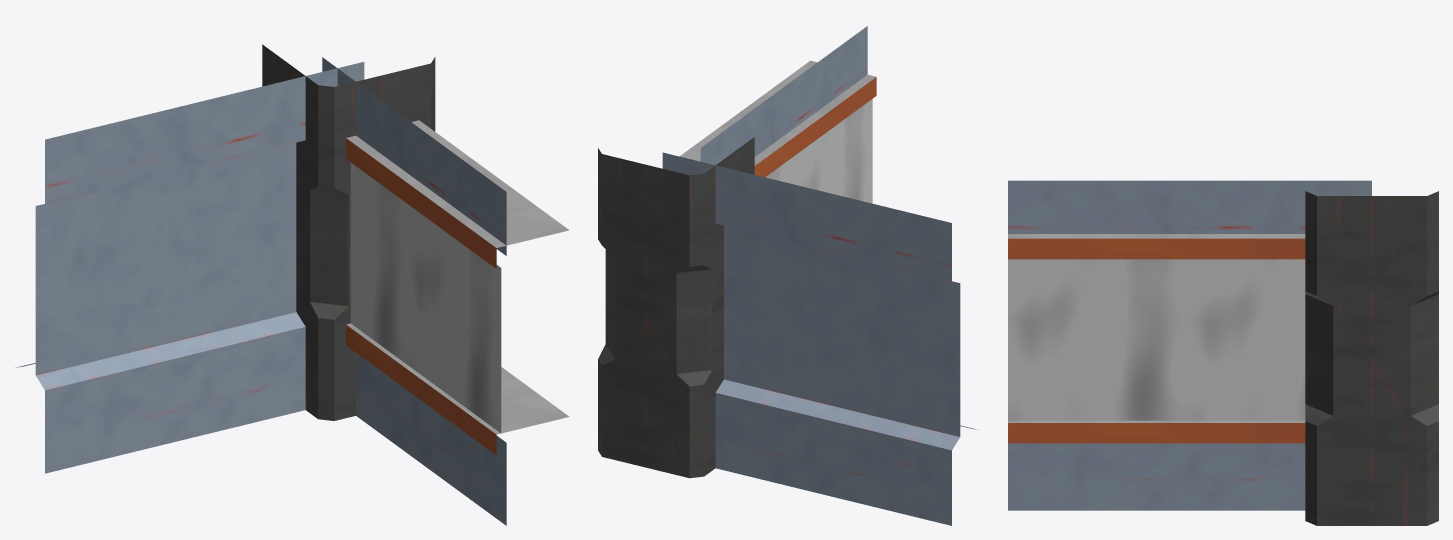
File: Wall_WindowCorner_2_A_F.glb
3 views of the same model, side by side, from view 1: azimuth 30°, elevation 25°; view 2: azimuth 150°, elevation 25°; view 3: azimuth 270°, elevation 25° (orthographic). The views are drawn at different scales.
Parts seen in each view (by area): view 1: Wall_WindowCorner_2_A_F; view 2: Wall_WindowCorner_2_A_F; view 3: Wall_WindowCorner_2_A_F.
Boxes of the visible parts, x1,y1,x2,y2 form: Wall_WindowCorner_2_A_F: (16,44,569,525); Wall_WindowCorner_2_A_F: (598,26,978,525); Wall_WindowCorner_2_A_F: (1008,180,1438,525).
Bounding box in the file's own units: 7.1 × 6 × 7.1.
Materials: 3 (3 with a texture image).
